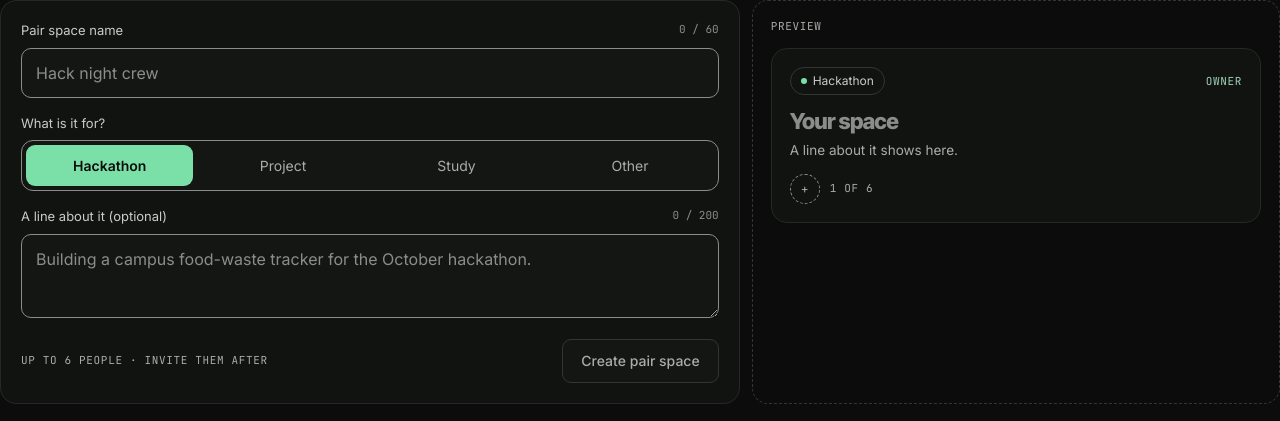
Scenario: CreateTeam picker and preview › needs a name of two letters
In the field labelled "Pair space name": coordinates (370, 72) 21,48 -> 719,98, type "A"
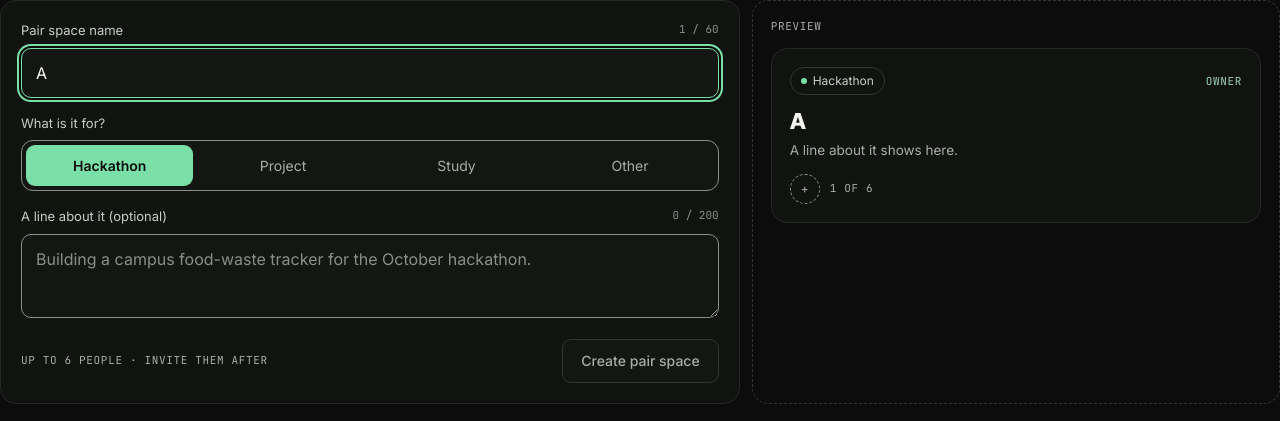
Expected: the button "Create pair space" is disabled, 562,338 -> 719,382
In the field labelled "Pair space name": coordinates (370, 72) 21,48 -> 719,98, type "b"
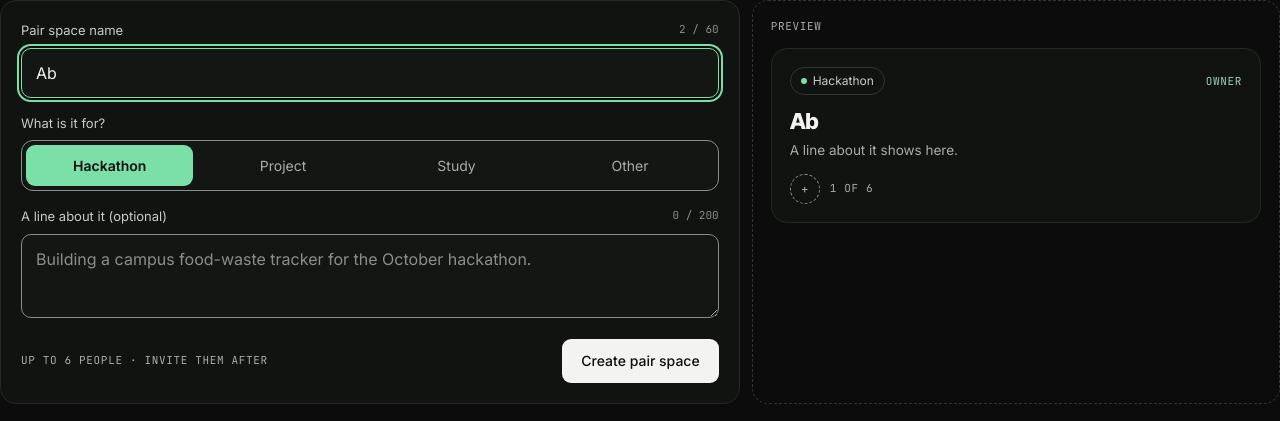
Expected: the button "Create pair space" is enabled, 562,338 -> 719,382
